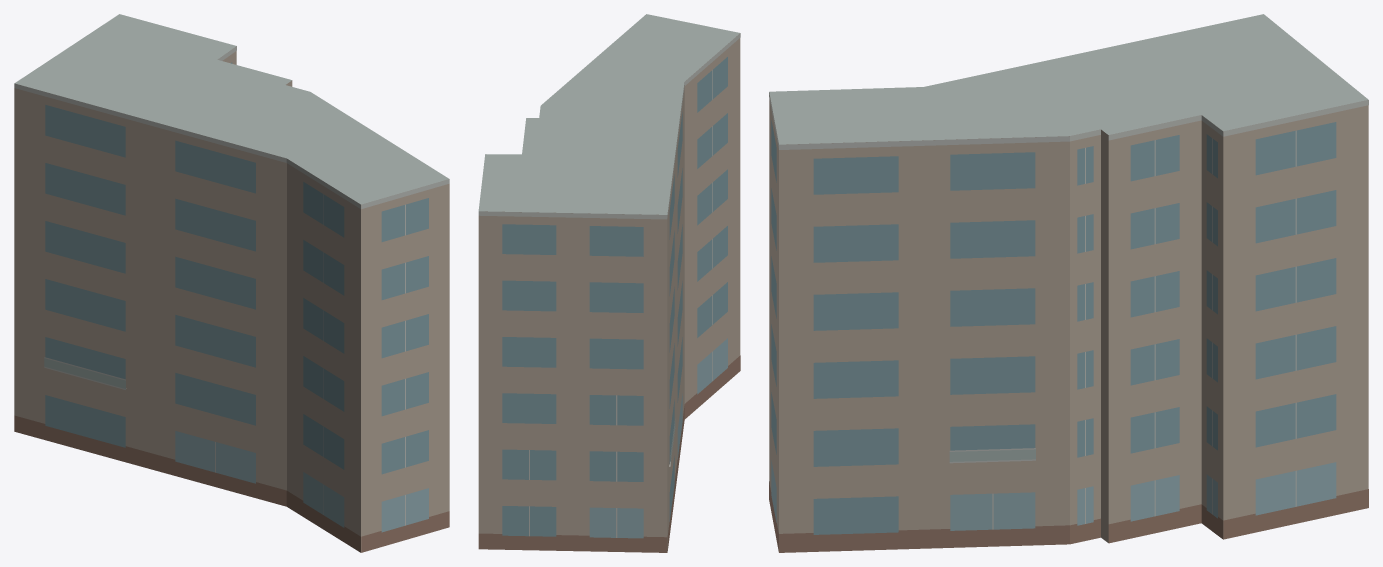
Rendered from survey-upis-32628874.glb.
3 views of the same model, side by side, from view 1: azimuth 30°, elevation 25°; view 2: azimuth 150°, elevation 25°; view 3: azimuth 270°, elevation 25° (orthographic). The views are drawn at different scales.
Parts seen in each view (by area): view 1: survey-upis-32628874.tmp; view 2: survey-upis-32628874.tmp; view 3: survey-upis-32628874.tmp.
Boxes of the visible parts, <box> form: survey-upis-32628874.tmp: <box>14,14,449,552</box>; survey-upis-32628874.tmp: <box>478,14,740,552</box>; survey-upis-32628874.tmp: <box>769,14,1368,552</box>.
Bounding box in the file's own units: 12.57 × 18.3 × 24.37.
